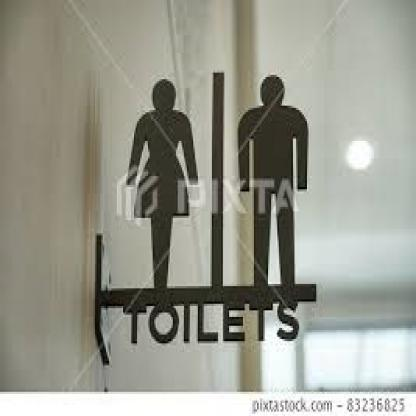toilet: (125, 68, 314, 294)
